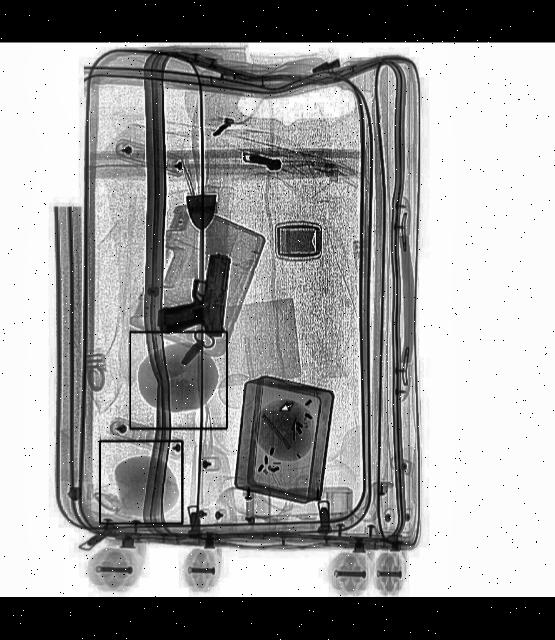Gun: (154, 250, 231, 340)
